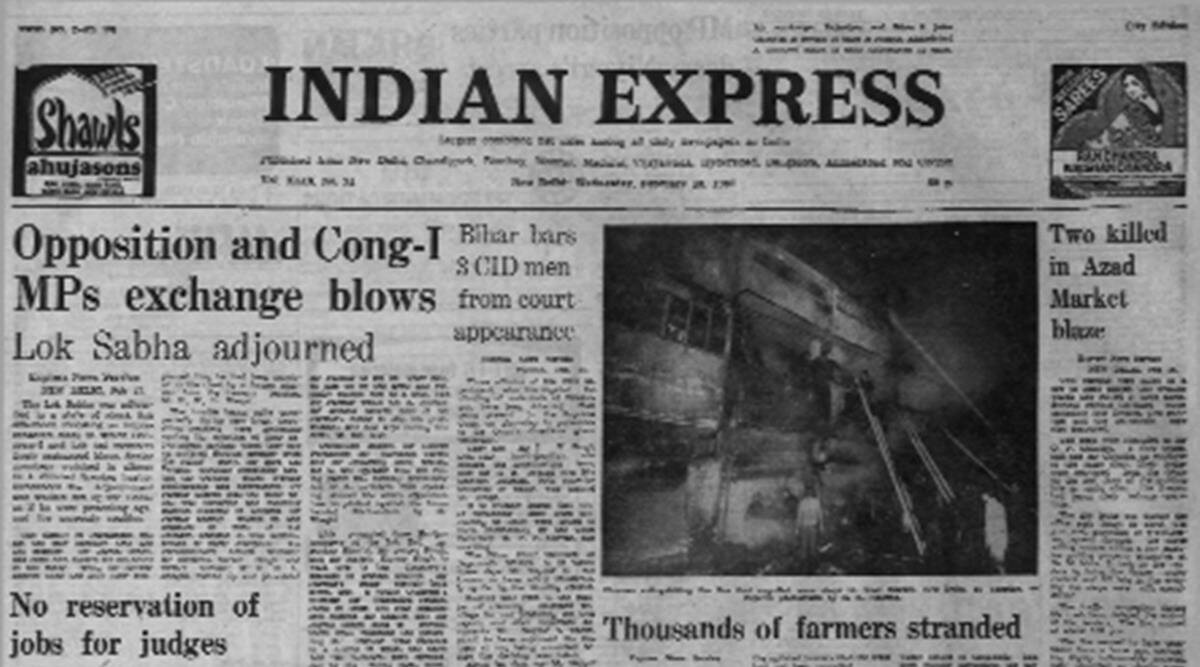news_paper: (7, 2, 1200, 667)
